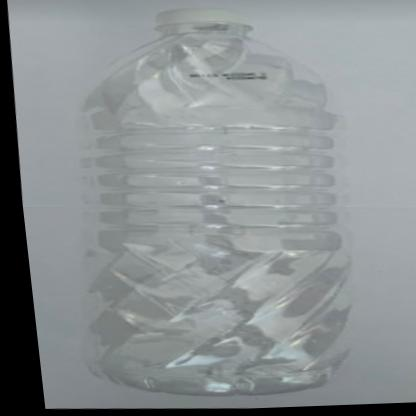bottle cap: (67, 1, 364, 123)
